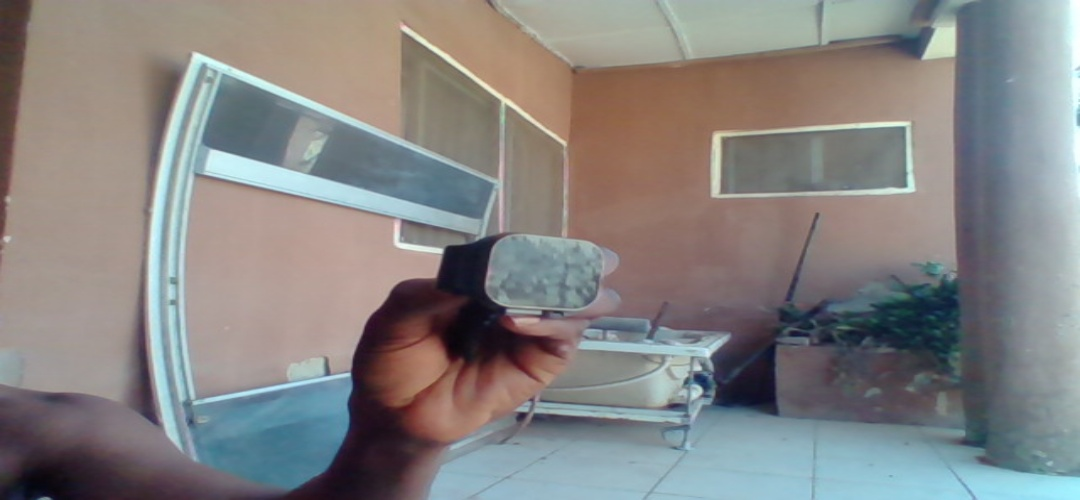smart_watch: (439, 232, 605, 321)
